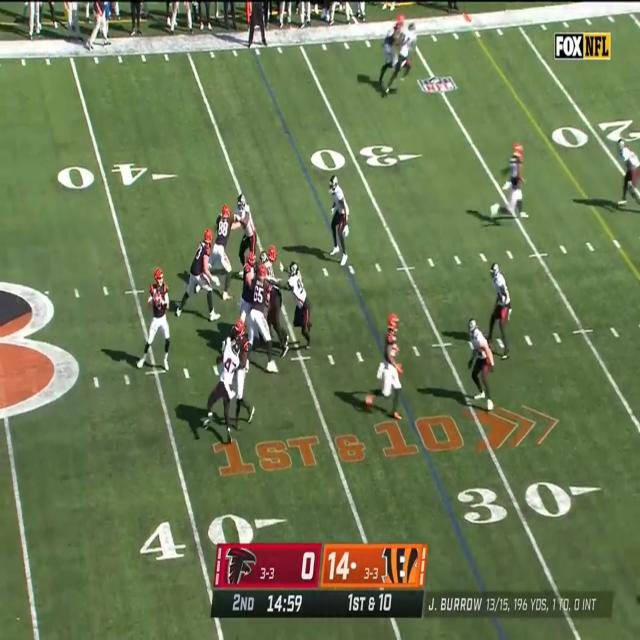Ball: (153, 291, 160, 308)
